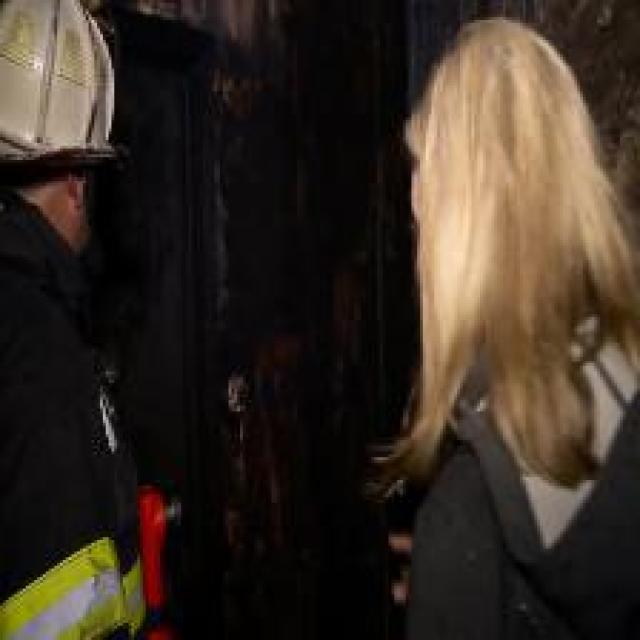other: (15, 560, 114, 631), (134, 483, 177, 634)
